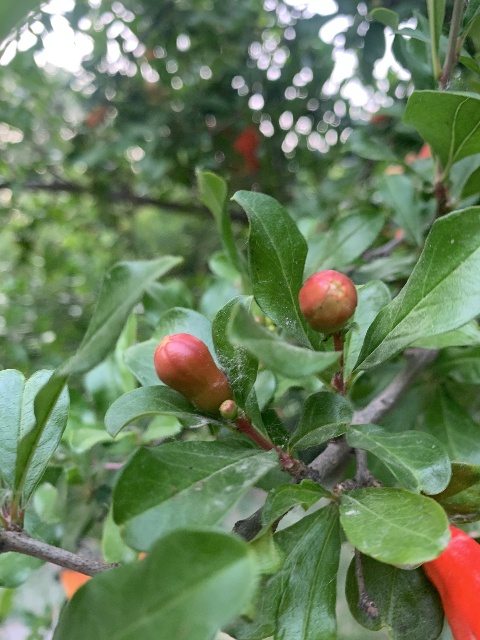bud: (153, 332, 231, 414), (299, 269, 356, 332)
